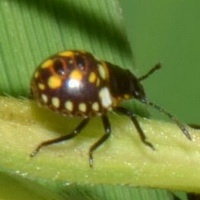insect: (31, 50, 160, 166)
